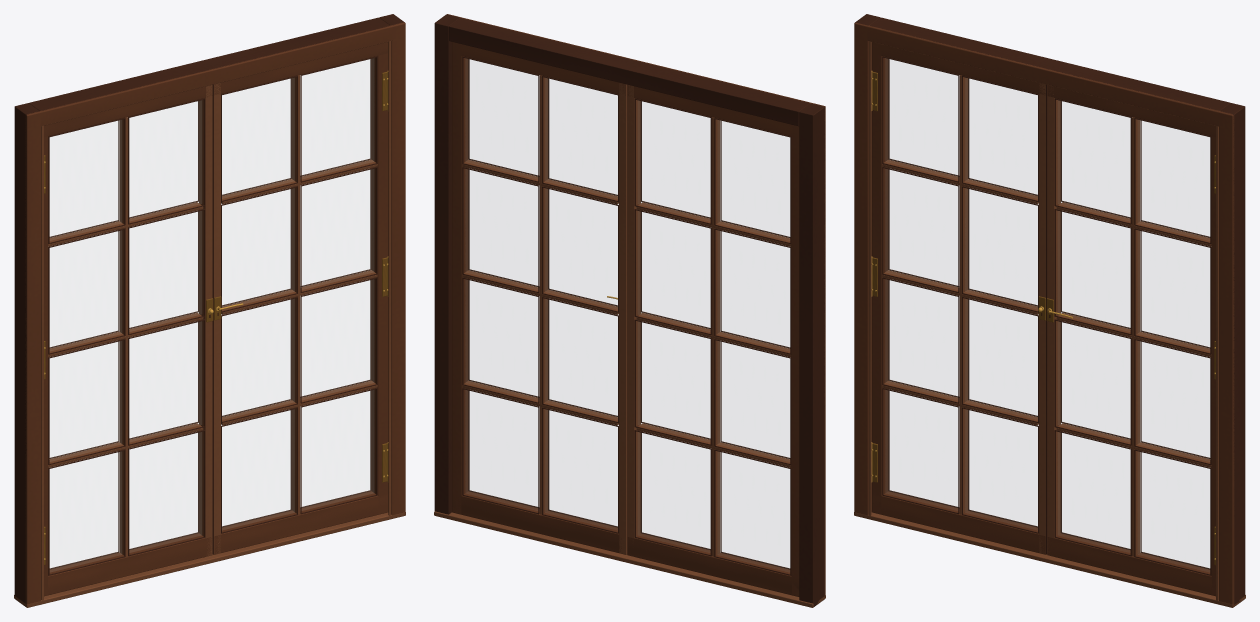
Rendered from asset.glb.
3 renders of one model, left to right at view 1: azimuth 30°, elevation 25°; view 2: azimuth 150°, elevation 25°; view 3: azimuth 330°, elevation 25°, orthographic.
Visible parts, largest first — view 1: MaterialBatch_French_door_clear_household_glazing, MaterialBatch_French_door_quarter-sawn_oak, MaterialBatch_French_door_oak_board_variation, MaterialBatch_French_door_oak_end-grain_and_reveals, MaterialBatch_French_door_warm_aged_brass_hardware; view 2: MaterialBatch_French_door_clear_household_glazing, MaterialBatch_French_door_oak_end-grain_and_reveals, MaterialBatch_French_door_oak_board_variation, MaterialBatch_French_door_quarter-sawn_oak; view 3: MaterialBatch_French_door_clear_household_glazing, MaterialBatch_French_door_quarter-sawn_oak, MaterialBatch_French_door_oak_board_variation, MaterialBatch_French_door_oak_end-grain_and_reveals, MaterialBatch_French_door_warm_aged_brass_hardware.
Part boxes in pixels (x1,y1,x2,y2): MaterialBatch_French_door_clear_household_glazing: [50, 59, 373, 571]; MaterialBatch_French_door_quarter-sawn_oak: [25, 22, 405, 604]; MaterialBatch_French_door_oak_board_variation: [14, 40, 405, 607]; MaterialBatch_French_door_oak_end-grain_and_reveals: [14, 14, 404, 606]; MaterialBatch_French_door_warm_aged_brass_hardware: [44, 71, 387, 565]; MaterialBatch_French_door_clear_household_glazing: [466, 59, 789, 571]; MaterialBatch_French_door_oak_end-grain_and_reveals: [434, 14, 825, 607]; MaterialBatch_French_door_oak_board_variation: [434, 75, 825, 607]; MaterialBatch_French_door_quarter-sawn_oak: [447, 14, 825, 598]; MaterialBatch_French_door_clear_household_glazing: [886, 59, 1209, 571]; MaterialBatch_French_door_quarter-sawn_oak: [854, 22, 1234, 606]; MaterialBatch_French_door_oak_board_variation: [854, 40, 1245, 607]; MaterialBatch_French_door_oak_end-grain_and_reveals: [855, 14, 1245, 606]; MaterialBatch_French_door_warm_aged_brass_hardware: [872, 71, 1215, 565].
Bounding box in the file's own units: 66 × 82 × 4.
Materials: 6 (6 with a texture image).
